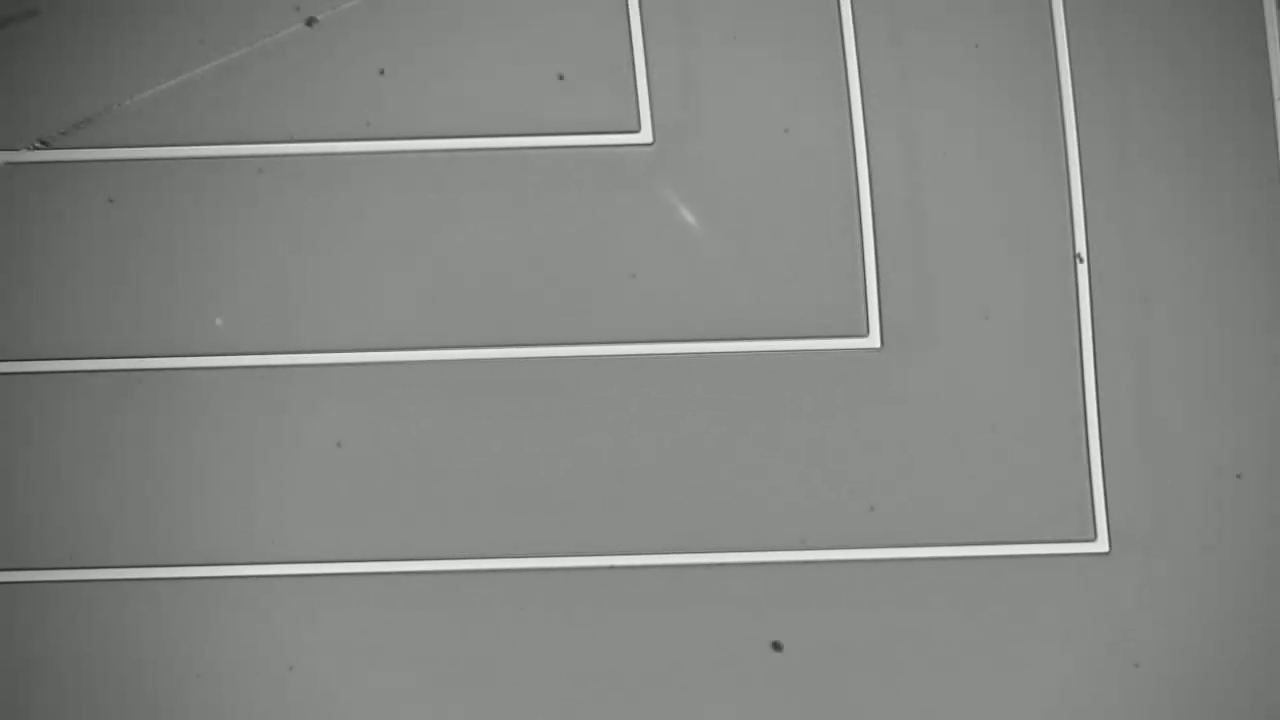scratch: (11, 1, 363, 158)
stains_enbedded: (1065, 244, 1100, 277)
